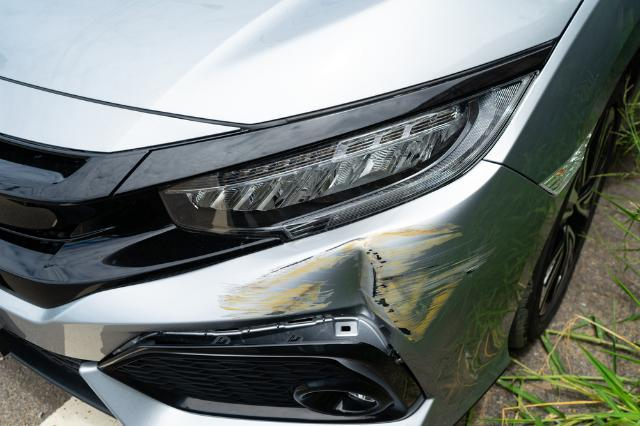dent: (324, 249, 378, 309)
scratch: (218, 221, 500, 343)
